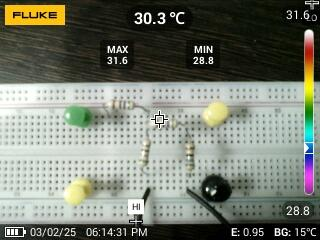resistor: (149, 115, 183, 131), (105, 98, 140, 113), (181, 141, 197, 173), (137, 137, 152, 171)
